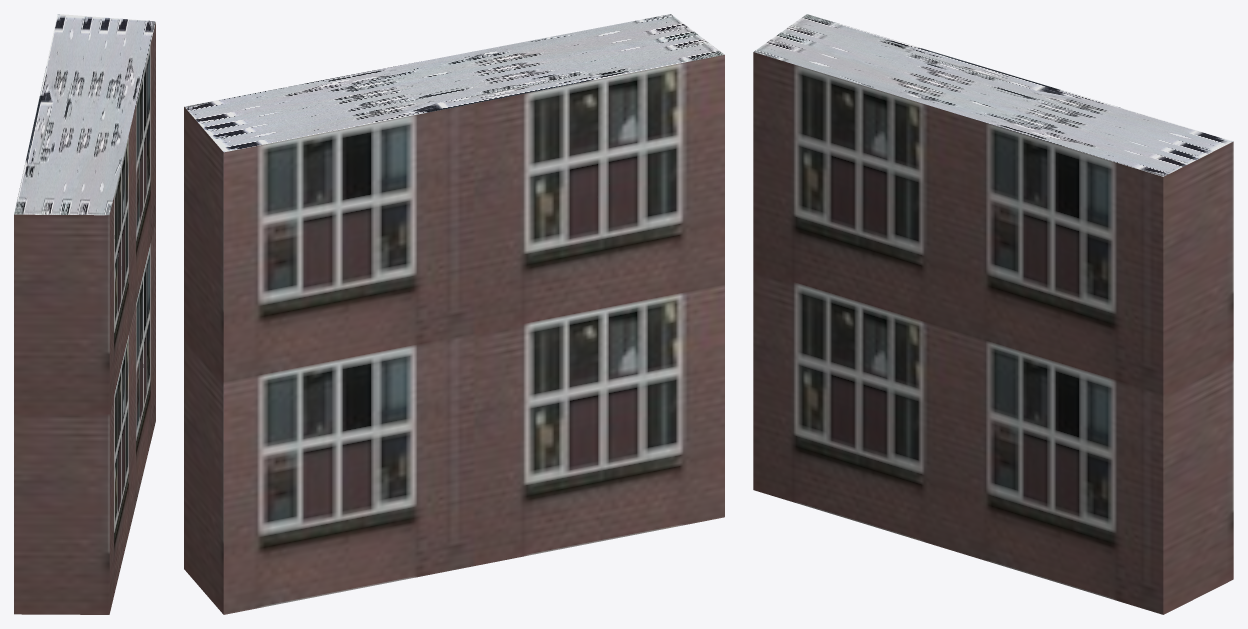
File: ResTex__3533.fbx
3 views of the same model, side by side, from view 1: azimuth 30°, elevation 25°; view 2: azimuth 150°, elevation 25°; view 3: azimuth 270°, elevation 25° (orthographic). The views are drawn at different scales.
Visible parts, largest first — view 1: CityEngineMaterial_12_m, CityEngineMaterial_4_m; view 2: CityEngineMaterial_12_m, CityEngineMaterial_4_m; view 3: CityEngineMaterial_12_m, CityEngineMaterial_4_m.
Boxes of the visible parts, left/top/right/bottom form: CityEngineMaterial_12_m: left=14, top=22, right=155, bottom=614; CityEngineMaterial_4_m: left=14, top=14, right=155, bottom=215; CityEngineMaterial_12_m: left=184, top=55, right=724, bottom=614; CityEngineMaterial_4_m: left=184, top=14, right=724, bottom=152; CityEngineMaterial_12_m: left=753, top=52, right=1233, bottom=614; CityEngineMaterial_4_m: left=754, top=14, right=1233, bottom=176.
Bounding box in the file's own units: 4.79 × 6 × 5.96.
2 materials, 2 textured.
